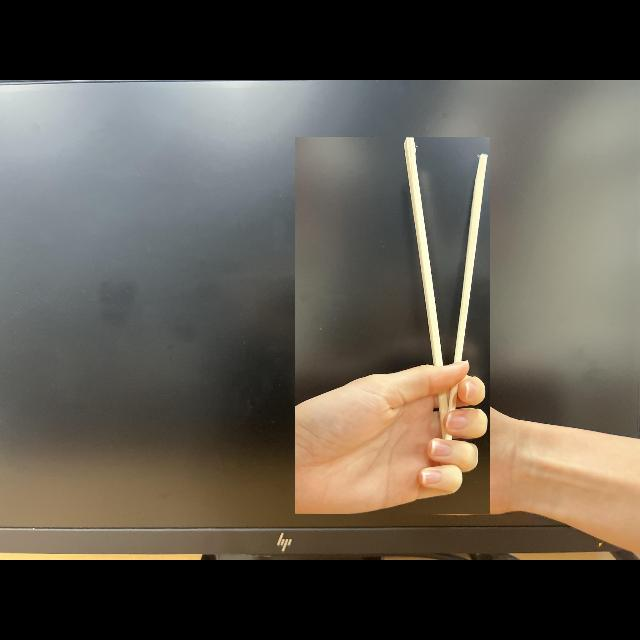stick: (296, 137, 490, 513)
